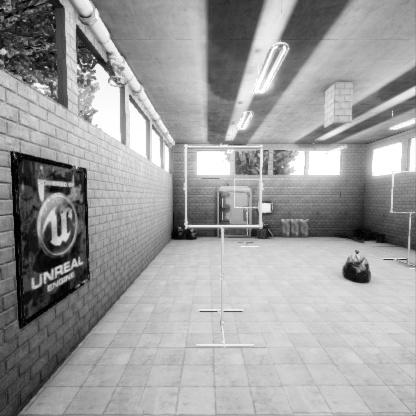gate: (186, 192, 267, 272), (395, 204, 416, 247), (233, 208, 263, 238)
